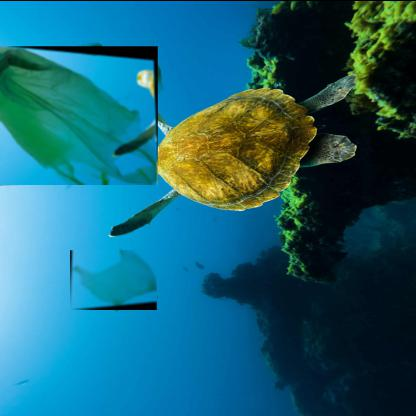plastic-bag: (0, 44, 159, 184), (70, 248, 158, 309)
